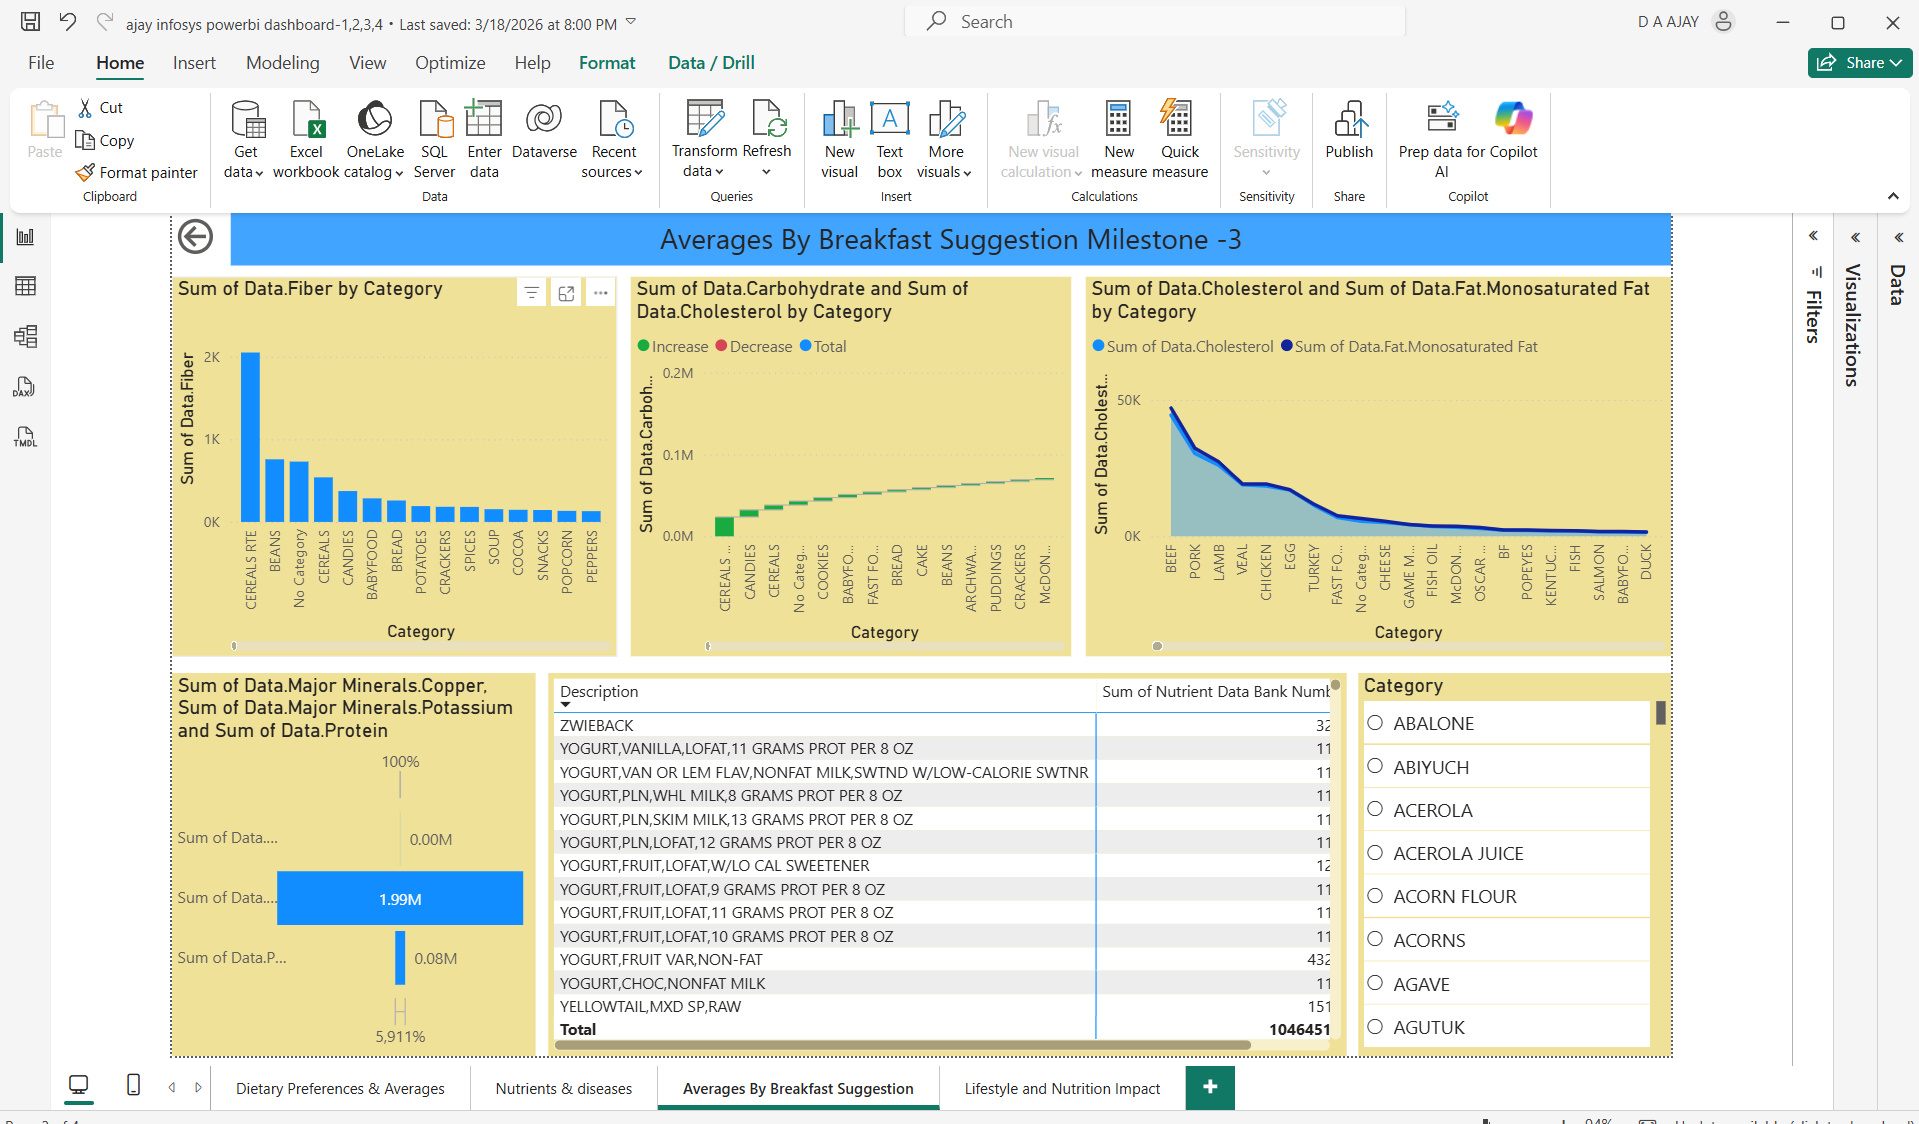

Layout of this report page (visuals, bound fields, positions):
{"tool":"powerbi","page":{"name":"Averages By Breakfast Suggestion","canvas":[1280,720],"ordinal":2},"visuals":[{"type":"columnChart","fields":{"Category":["food.Category"],"Y":["Sum(food.Data.Fiber)"]},"box":[0,54.3,380,324.3],"z":0},{"type":"stackedAreaChart","fields":{"Category":["food.Category"],"Y":["Sum(food.Data.Cholesterol)","Sum(food.Data.Fat.Monosaturated Fat)"]},"box":[780,54.3,500,324.3],"z":1000},{"type":"listSlicer","fields":{"Values":["food.Category"]},"box":[1012.9,392.9,267.1,327.1],"z":2000},{"type":"pivotTable","fields":{"Rows":["food.Description"],"Values":["Sum(food.Nutrient Data Bank Number)"]},"box":[321.4,392.9,681.4,327.1],"z":3000},{"type":"funnel","fields":{"Y":["Sum(food.Data.Major Minerals.Copper)","Sum(food.Data.Major Minerals.Potassium)","Sum(food.Data.Protein)"]},"box":[0,392.9,310,327.1],"z":4000},{"type":"waterfallChart","fields":{"Y":["Sum(food.Data.Carbohydrate)"],"Category":["food.Category"]},"box":[391.4,54.3,375.7,324.3],"z":5000},{"type":"textbox","box":[50.1,0,1230.2,44.8],"z":6000},{"type":"actionButton","box":[0,0,100,40],"z":7000}]}

Visuals, with their boxes on the page's 1280x720 design canvas (x1, y1, x2, y2). These are canvas units, not pixel positions in the 1919x1124 screenshot, which may show the page scaled, cropped or inside an application window:
columnChart - food.Category x Sum(food.Data.Fiber): x1=0, y1=54, x2=380, y2=379
stackedAreaChart - food.Category x Sum(food.Data.Cholesterol): x1=780, y1=54, x2=1280, y2=379
listSlicer - food.Category: x1=1013, y1=393, x2=1280, y2=720
pivotTable - food.Description x Sum(food.Nutrient Data Bank Number): x1=321, y1=393, x2=1003, y2=720
funnel - Sum(food.Data.Major Minerals.Copper) x Sum(food.Data.Major Minerals.Potassium): x1=0, y1=393, x2=310, y2=720
waterfallChart - Sum(food.Data.Carbohydrate) x food.Category: x1=391, y1=54, x2=767, y2=379
textbox: x1=50, y1=0, x2=1280, y2=45
actionButton: x1=0, y1=0, x2=100, y2=40
